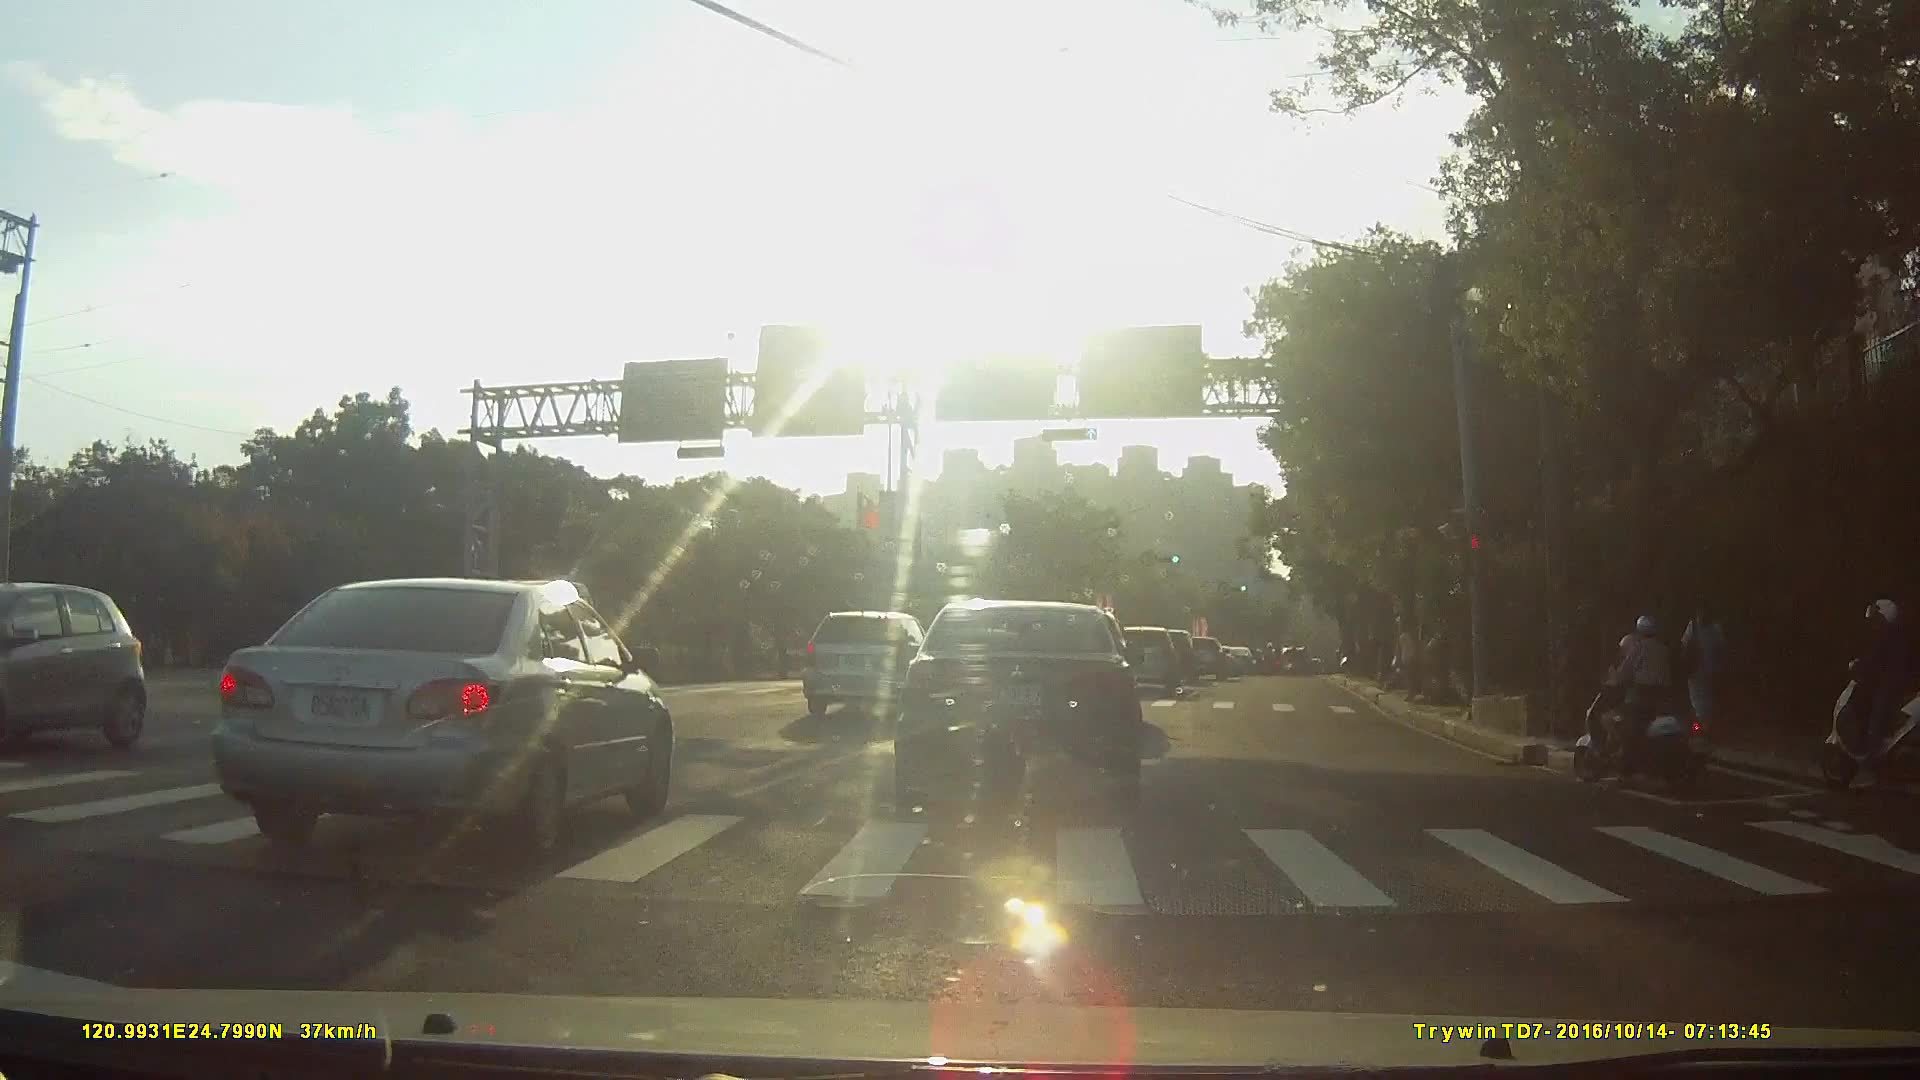pedestrian: (1675, 589, 1732, 740)
rider: (1576, 611, 1722, 793), (1813, 597, 1920, 792)
vehicle: (194, 574, 673, 862), (891, 595, 1143, 807), (1, 581, 172, 769), (799, 607, 945, 718), (1105, 622, 1179, 692), (1175, 632, 1225, 676), (1218, 643, 1255, 671)
